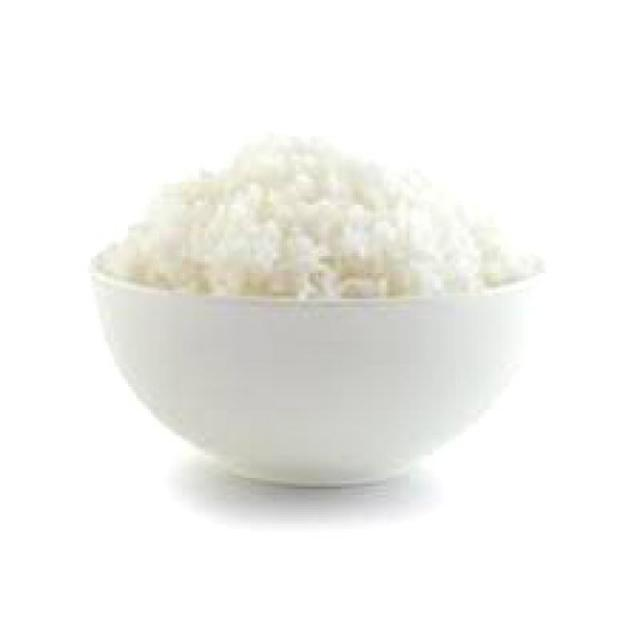rice: (106, 128, 531, 300)
